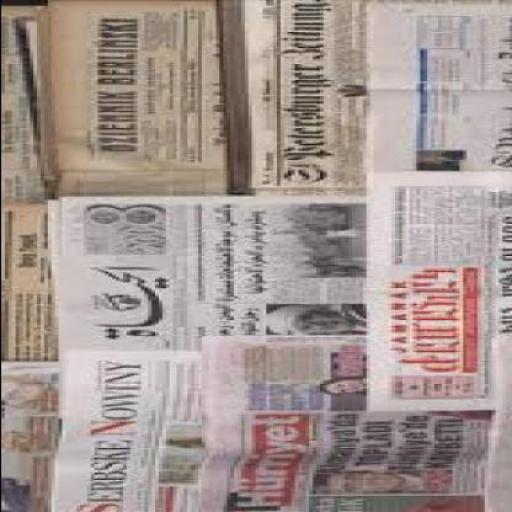cardboard: (2, 1, 508, 511)
paper: (194, 339, 508, 511), (43, 198, 383, 355), (361, 174, 509, 413), (46, 2, 244, 172), (46, 352, 230, 511), (361, 2, 509, 174), (240, 2, 358, 189), (2, 12, 72, 203), (2, 204, 72, 364), (1, 364, 57, 511)
